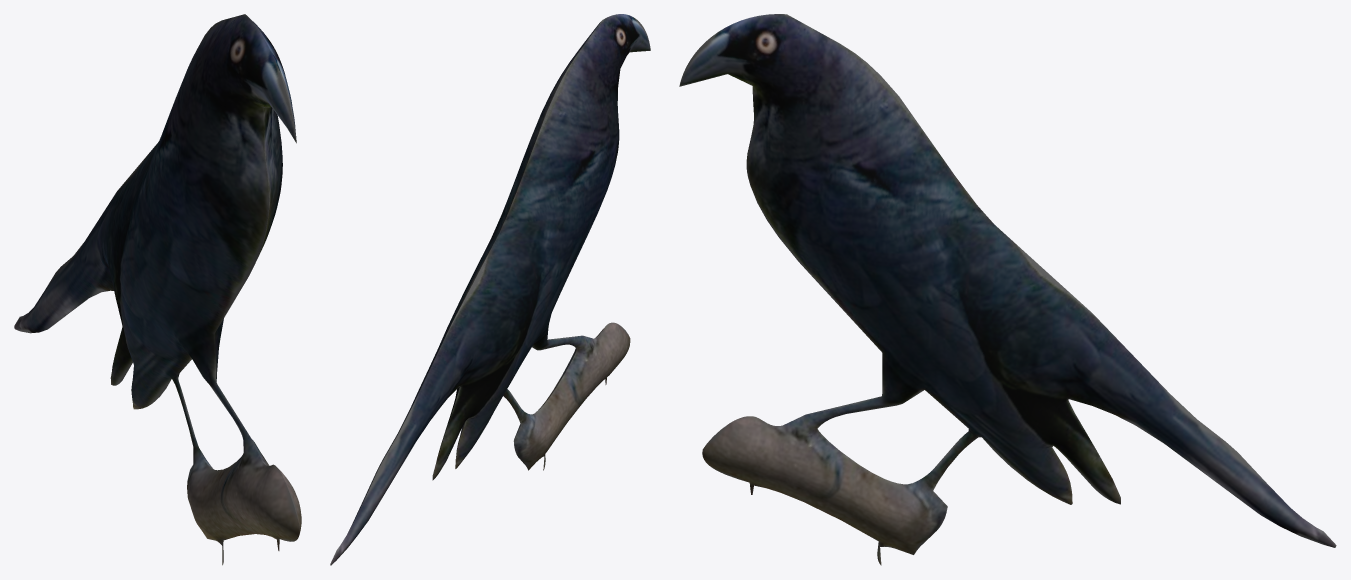
The model's file is 900-removebg-preview.gltf.
The picture shows the model from 3 angles, left to right: view 1: azimuth 30°, elevation 25°; view 2: azimuth 150°, elevation 25°; view 3: azimuth 270°, elevation 25°; orthographic projection. The views are drawn at different scales.
Visible parts, largest first — view 1: node1; view 2: node1; view 3: node1.
Boxes of the visible parts, left/top/right/bottom form: node1: left=14, top=14, right=301, bottom=565; node1: left=330, top=14, right=650, bottom=565; node1: left=679, top=14, right=1336, bottom=565.
Bounding box in the file's own units: 0.2116 × 1.08 × 1.19.
Materials: 1 (1 with a texture image).
